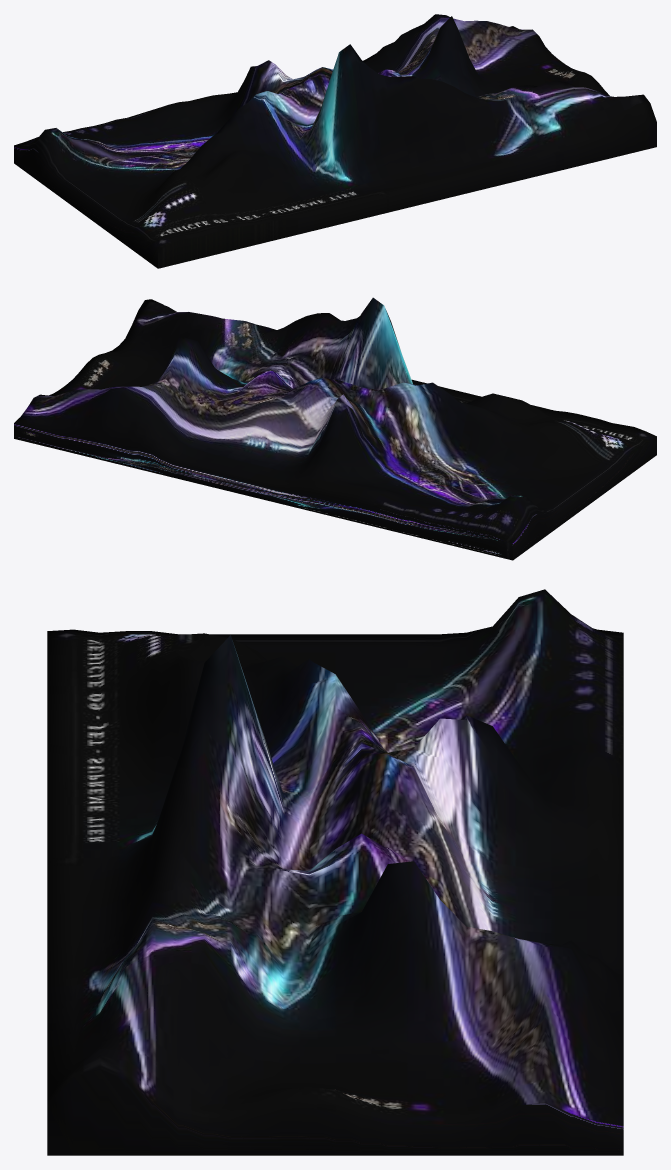
The model's file is VEHICLE_09_Jet.glb.
The picture shows the model from 3 angles, top to bottom: view 1: azimuth 30°, elevation 25°; view 2: azimuth 150°, elevation 25°; view 3: azimuth 270°, elevation 25°; orthographic projection. The views are drawn at different scales.
Visible parts, largest first — view 1: VEHICLE_09_Jet; view 2: VEHICLE_09_Jet; view 3: VEHICLE_09_Jet.
Part boxes in pixels (x1=…): VEHICLE_09_Jet: x1=14, y1=14, x2=656, y2=268; VEHICLE_09_Jet: x1=14, y1=297, x2=656, y2=560; VEHICLE_09_Jet: x1=47, y1=589, x2=623, y2=1155.
Bounding box in the file's own units: 2 × 0.51 × 1.
1 material, 1 textured.
